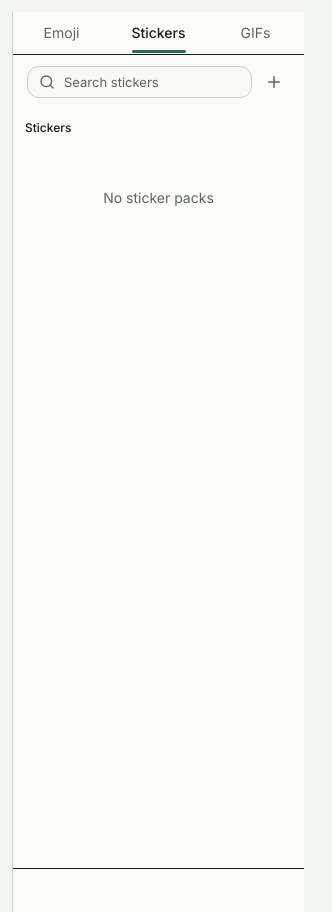
Test case: StickerPicker GIF result state › bootstraps the next page when the first page does not overflow the viewport
The width and height of the screenshot is (332, 912).
Click the button "GIFs" at coordinates (256, 33), box [207, 12, 304, 54]
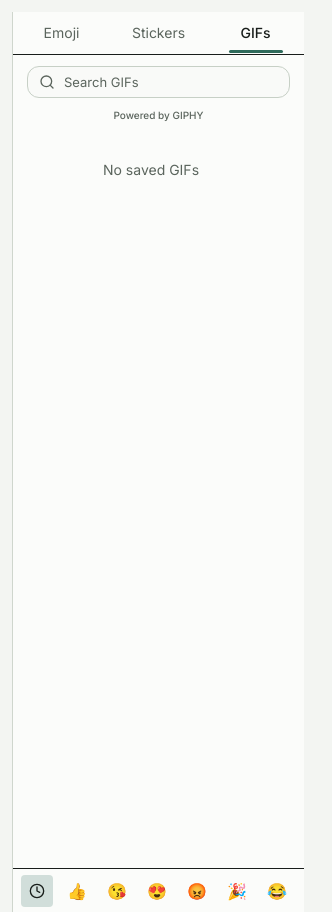
Type "cat" into the field labelled "Search GIFs" at coordinates (158, 82), box [27, 66, 290, 98]
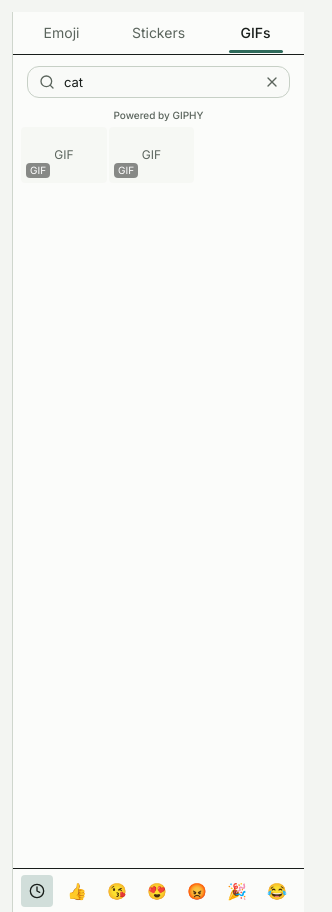
Check: the button with aria-label "page-2" is shown, box [109, 127, 194, 183]
Check: the button with aria-label "page-1" is shown, box [21, 127, 107, 183]
